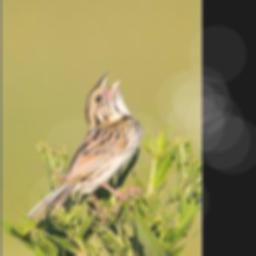Sparrow: (23, 71, 141, 223)
